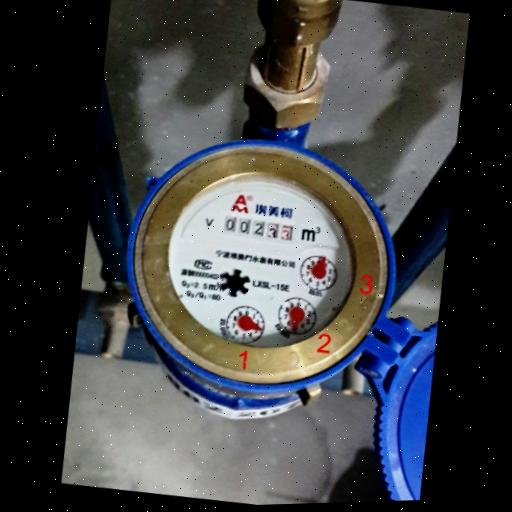0: (237, 216, 252, 236), (224, 215, 237, 234)
2: (252, 220, 266, 237)
3: (279, 224, 295, 243), (267, 221, 280, 241)
border_water_meter_number: (220, 209, 300, 250)
